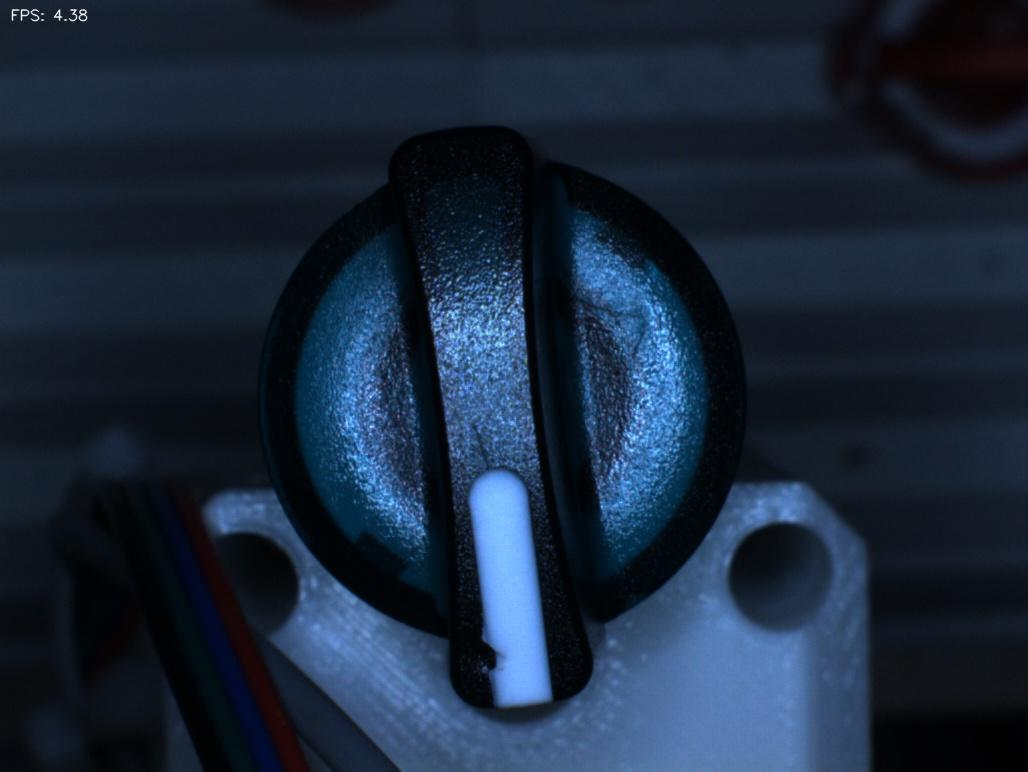Choc: (439, 613, 540, 700)
